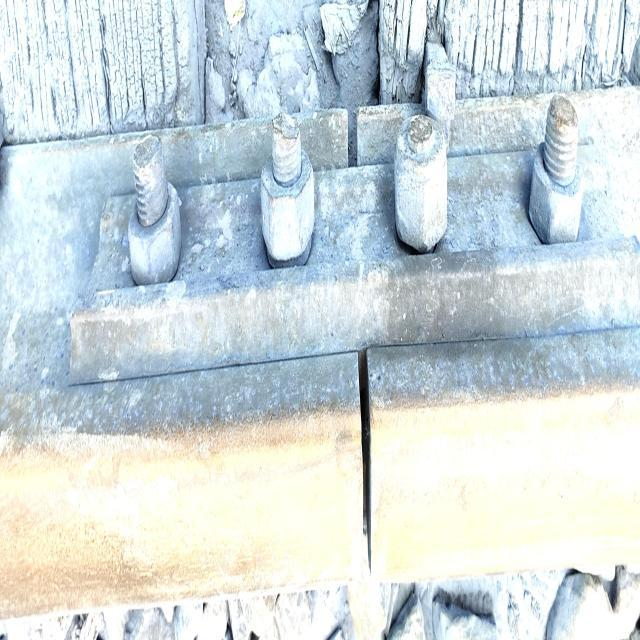Good Joint: (68, 94, 638, 380)
